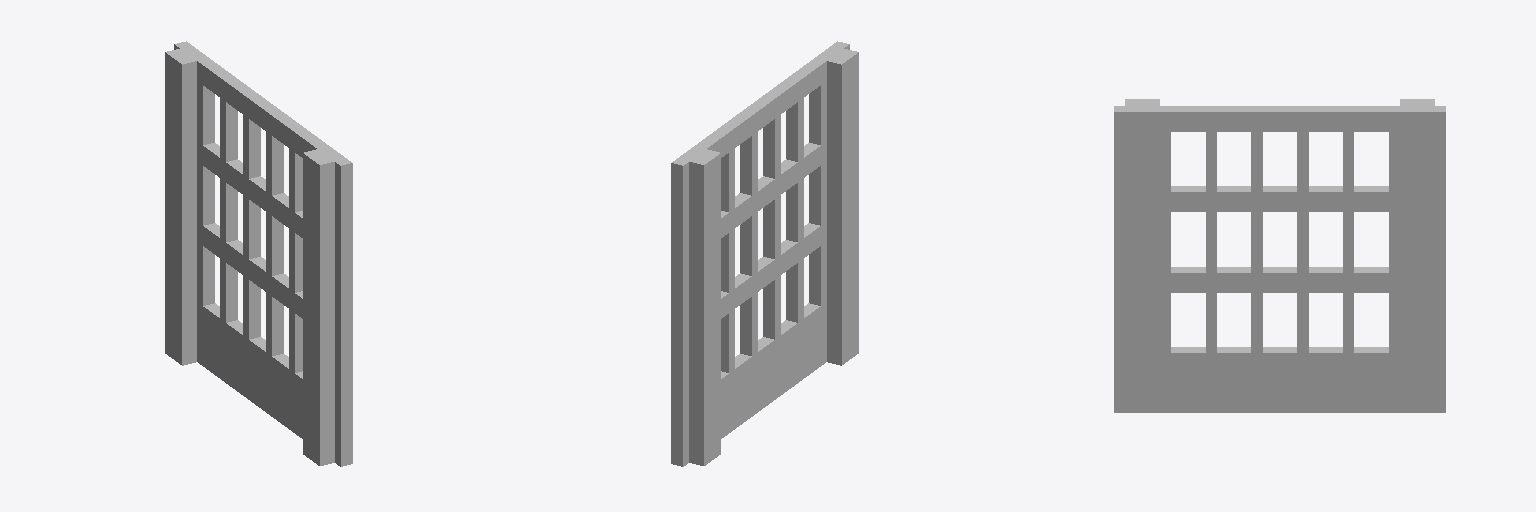
The model's file is ventana1.obj.
The picture shows the model from 3 angles: view 1: azimuth 30°, elevation 25°; view 2: azimuth 150°, elevation 25°; view 3: azimuth 270°, elevation 25°; orthographic projection.
Visible parts, largest first — view 1: polySurface6 polySurface1 pCube398; view 2: polySurface6 polySurface1 pCube398; view 3: polySurface6 polySurface1 pCube398.
Part boxes in pixels (bbox=[...]): polySurface6 polySurface1 pCube398: bbox=[165, 41, 352, 466]; polySurface6 polySurface1 pCube398: bbox=[671, 41, 858, 466]; polySurface6 polySurface1 pCube398: bbox=[1114, 99, 1445, 412].
Bounding box in the file's own units: 9.42 × 100 × 100.